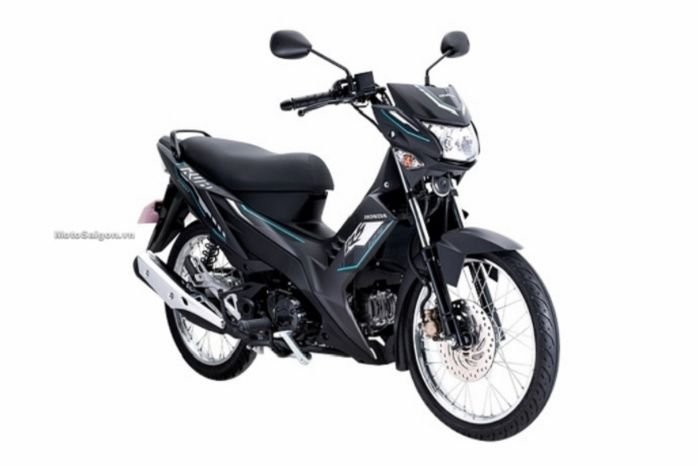motor: (106, 75, 605, 422)
